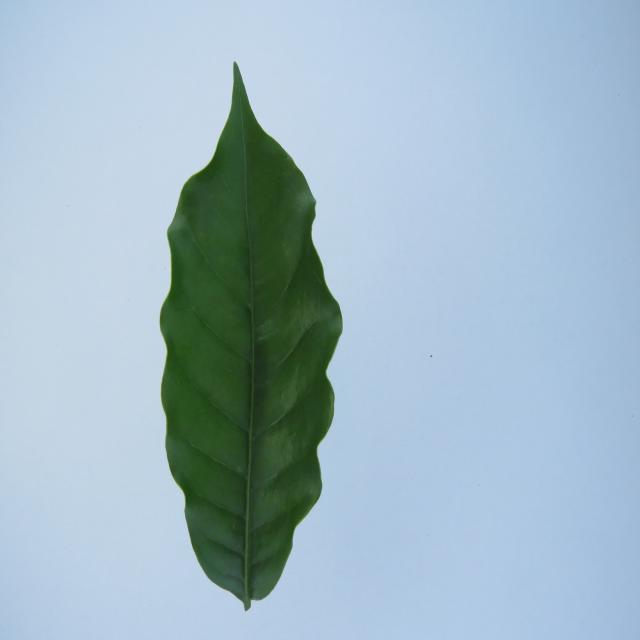DeficienciaNutricional-Calcio: (160, 63, 342, 610)
